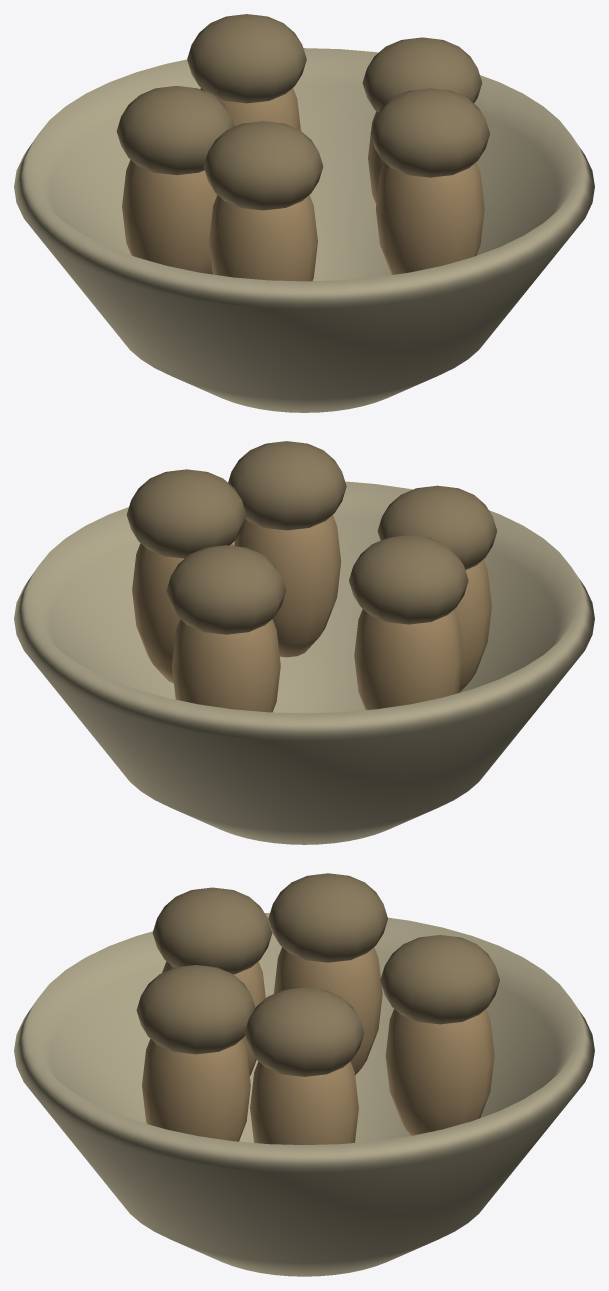
The model's file is acornbowl.glb.
3 views of the same model, one above another, from view 1: azimuth 30°, elevation 25°; view 2: azimuth 150°, elevation 25°; view 3: azimuth 270°, elevation 25° (orthographic).
Parts seen in each view (by area): view 1: acorn-bowl, acorn-3, acorn-cap-3, acorn-cap-1, acorn-cap-2, acorn-4, acorn-1, acorn-cap-4, acorn-cap-0, acorn-2, acorn-0; view 2: acorn-bowl, acorn-4, acorn-cap-2, acorn-cap-4, acorn-2, acorn-3, acorn-cap-0, acorn-cap-3, acorn-cap-1, acorn-0, acorn-1; view 3: acorn-bowl, acorn-2, acorn-3, acorn-cap-4, acorn-cap-0, acorn-cap-2, acorn-cap-3, acorn-cap-1, acorn-0, acorn-4, acorn-1.
Part boxes in pixels (x1,y1,x2,y2): acorn-bowl: (14, 48, 594, 412); acorn-3: (376, 162, 484, 274); acorn-cap-3: (370, 88, 489, 177); acorn-cap-1: (203, 121, 323, 210); acorn-cap-2: (187, 14, 306, 103); acorn-4: (122, 159, 217, 274); acorn-1: (209, 195, 317, 281); acorn-cap-4: (116, 86, 234, 175); acorn-cap-0: (362, 37, 482, 112); acorn-2: (200, 88, 300, 130); acorn-0: (368, 111, 383, 204); acorn-bowl: (14, 481, 594, 844); acorn-4: (354, 609, 463, 709); acorn-cap-2: (166, 545, 286, 634); acorn-cap-4: (349, 535, 468, 624); acorn-2: (172, 619, 280, 712); acorn-3: (234, 515, 341, 657); acorn-cap-0: (126, 469, 246, 558); acorn-cap-3: (228, 441, 346, 530); acorn-cap-1: (377, 485, 497, 569); acorn-0: (132, 543, 233, 683); acorn-1: (455, 559, 491, 692); acorn-bowl: (14, 913, 594, 1276); acorn-2: (385, 1009, 494, 1135); acorn-3: (142, 1039, 250, 1141); acorn-cap-4: (268, 873, 387, 962); acorn-cap-0: (244, 987, 364, 1076); acorn-cap-2: (380, 935, 499, 1024); acorn-cap-3: (136, 965, 255, 1054); acorn-cap-1: (152, 887, 272, 974); acorn-0: (250, 1061, 358, 1144); acorn-4: (273, 947, 382, 1075); acorn-1: (162, 961, 265, 1075).
Bounding box in the file's own units: 0.32 × 0.1768 × 0.32.
